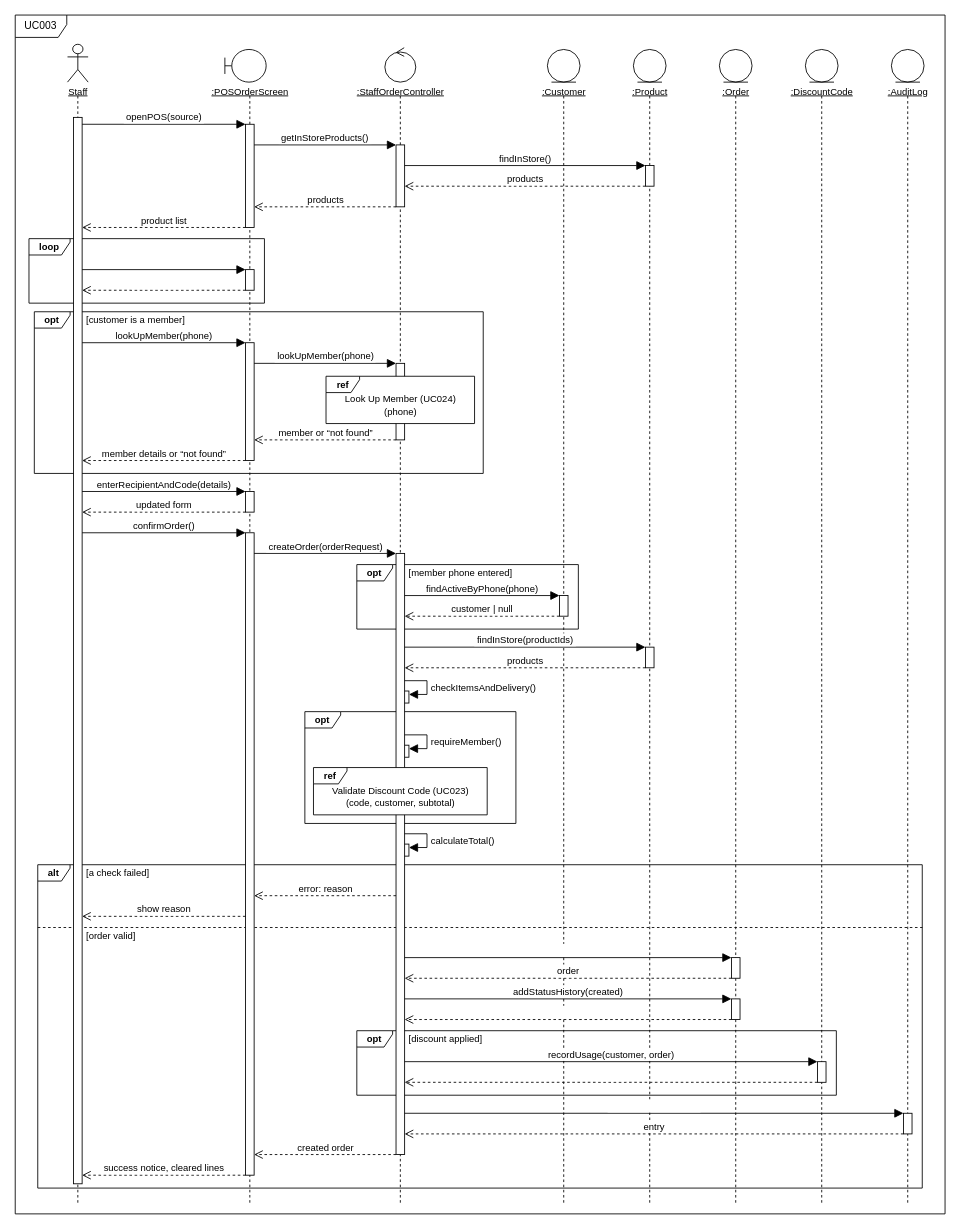
Image size: 961x1229. Some labels were removed from this diagram. The shapes that lost their labels are listed below. From the top down, each one's centre as x and y in pixels, then its label:
At pixel 126 246: "[for each line item]".
At pixel 163 261: "addItem(product, options)".
At pixel 163 282: "items, subtotal".
At pixel 459 719: "[discount code entered]".
At pixel 568 949: "create(branch, source, staff, items)".
At pixel 567 1011: "history".
At pixel 610 1074: "usage".
At pixel 653 1105: "record(orderCreated)".
